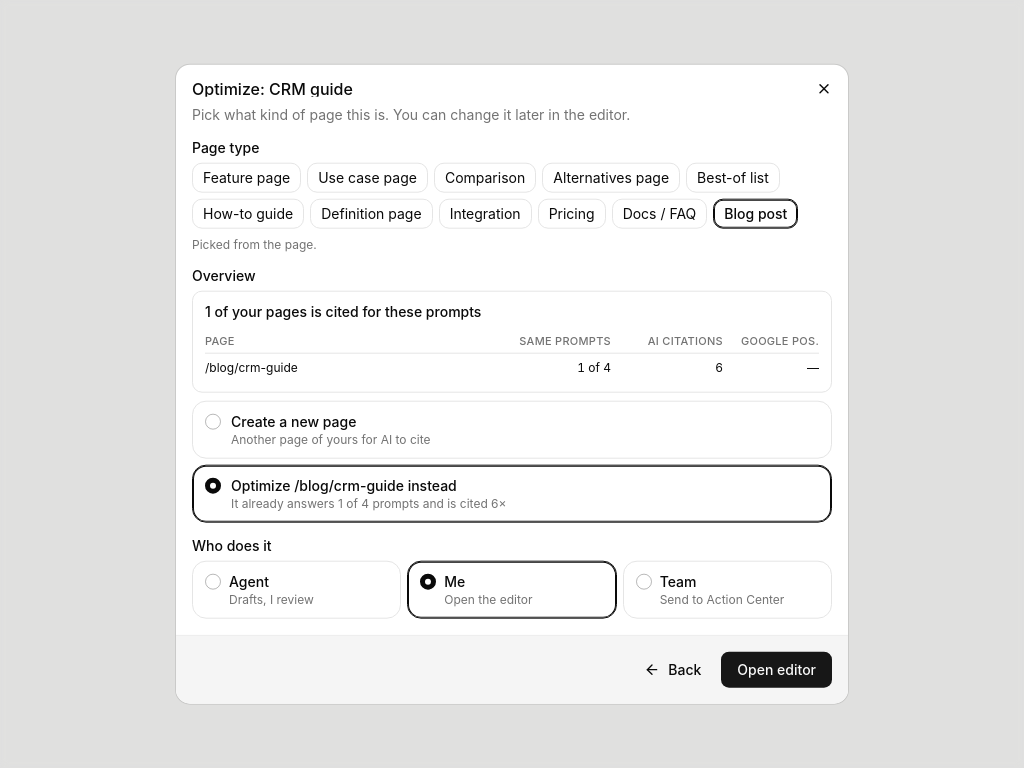
Test case: New content › opened from Tracked Prompts › picks the first page to optimize from the Overview when none is cited
Click the radio button labelled "Create a new page Another page of yours for AI to cite".
click(294, 421)  # box [192,400,832,458]
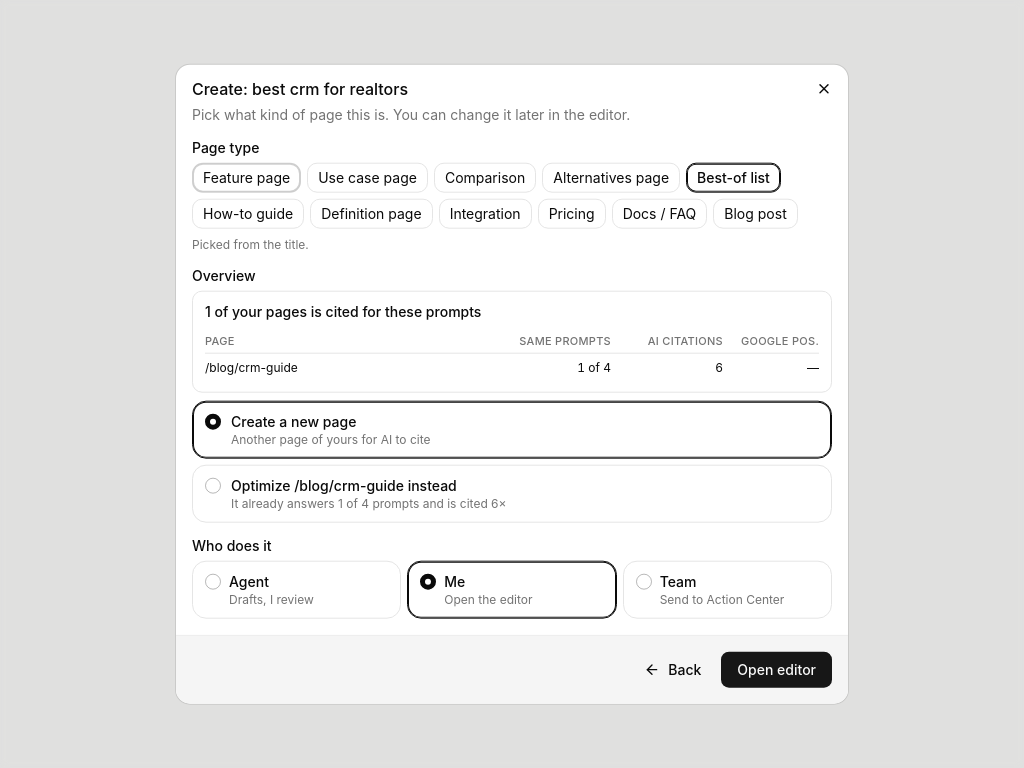
Now the text "Create: best crm for realtors" is shown, box [192,79,408,99]
